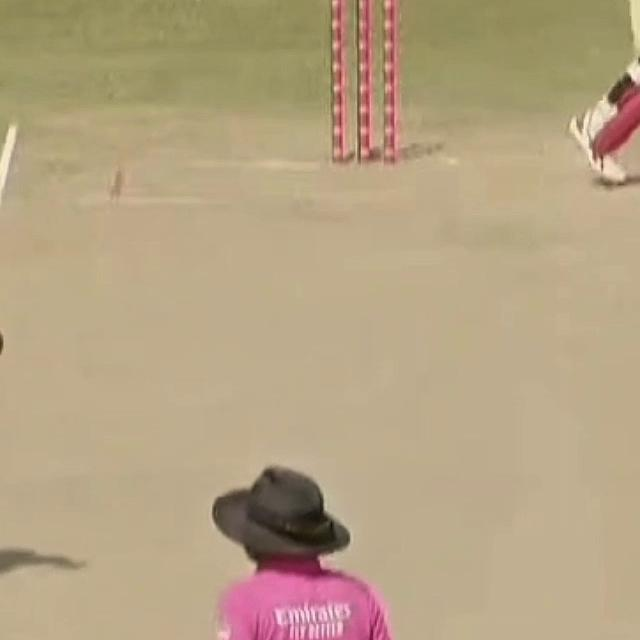umpire: (135, 440, 470, 640), (160, 420, 420, 640)
